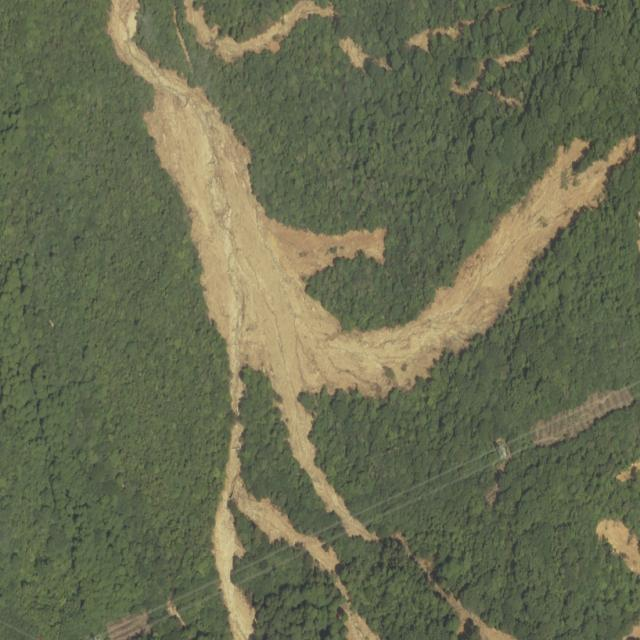landslide: (107, 0, 637, 640), (598, 520, 640, 575)
